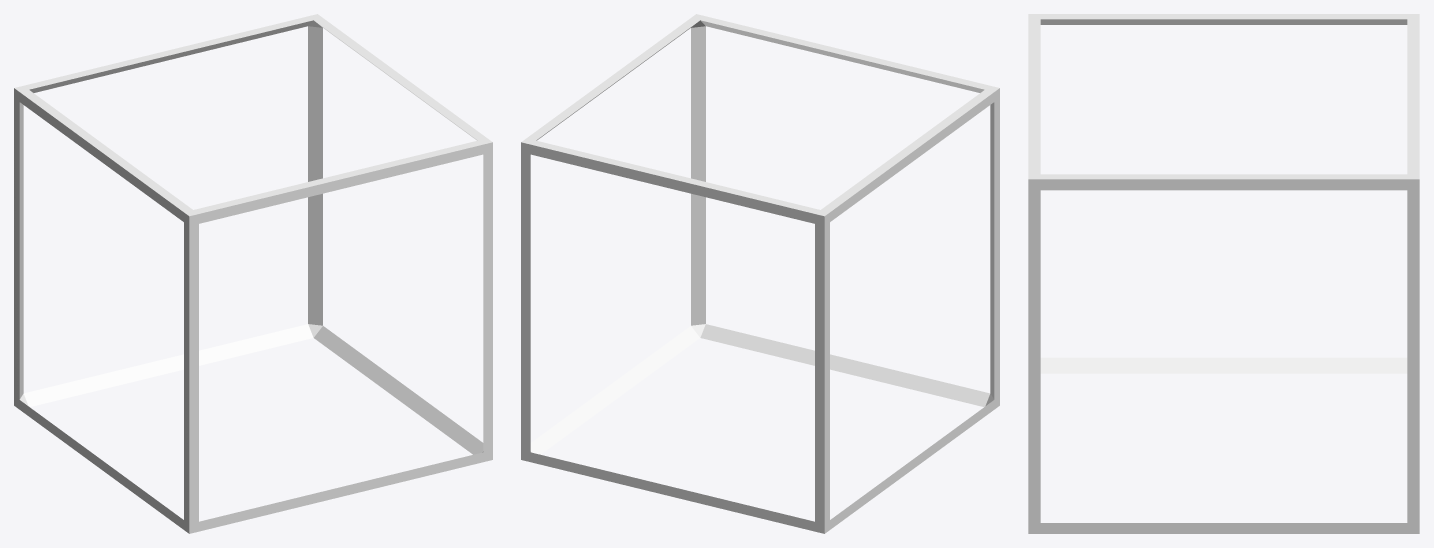
The picture shows the model from 3 angles, left to right: view 1: azimuth 30°, elevation 25°; view 2: azimuth 150°, elevation 25°; view 3: azimuth 270°, elevation 25°; orthographic projection. The views are drawn at different scales.
Visible parts, largest first — view 1: Grid_立方体.001; view 2: Grid_立方体.001; view 3: Grid_立方体.001.
Part boxes in pixels (x1,y1,x2,y2): Grid_立方体.001: (14, 14, 492, 533); Grid_立方体.001: (521, 14, 999, 533); Grid_立方体.001: (1028, 14, 1419, 533).
Size of the model in its own units: 2.1 by 2.1 by 2.1.
1 material, 1 textured.
